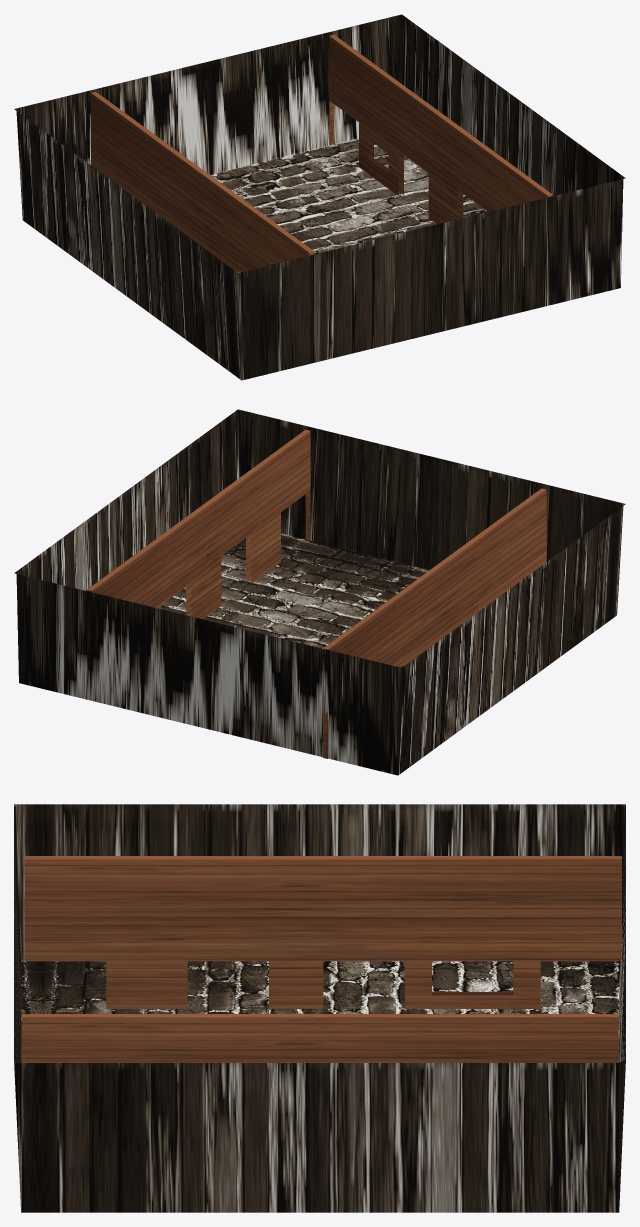
File: mundo_realista.dae
3 renders of one model, top to bottom at view 1: azimuth 30°, elevation 25°; view 2: azimuth 150°, elevation 25°; view 3: azimuth 270°, elevation 25°, orthographic. The views are drawn at different scales.
Visible parts, largest first — view 1: Plane, Cube.002, Cube.001; view 2: Plane, Cube.002, Cube.001; view 3: Plane, Cube.001, Cube.002.
Part boxes in pixels (left/top/right/bottom): Plane: left=14, top=14, right=625, bottom=380; Cube.002: left=329, top=34, right=552, bottom=224; Cube.001: left=91, top=91, right=314, bottom=271; Plane: left=14, top=409, right=625, bottom=775; Cube.002: left=87, top=429, right=310, bottom=619; Cube.001: left=323, top=488, right=546, bottom=758; Plane: left=14, top=804, right=625, bottom=1212; Cube.001: left=24, top=856, right=621, bottom=1008; Cube.002: left=21, top=1014, right=618, bottom=1062.
Bounding box in the file's own units: 100 × 100 × 27.35.
Materials: 3 (3 with a texture image).
